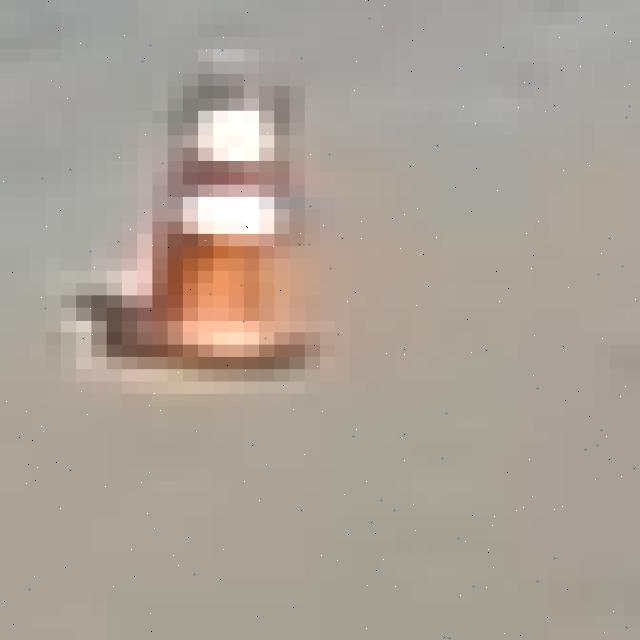small_cone: (107, 49, 335, 369)
